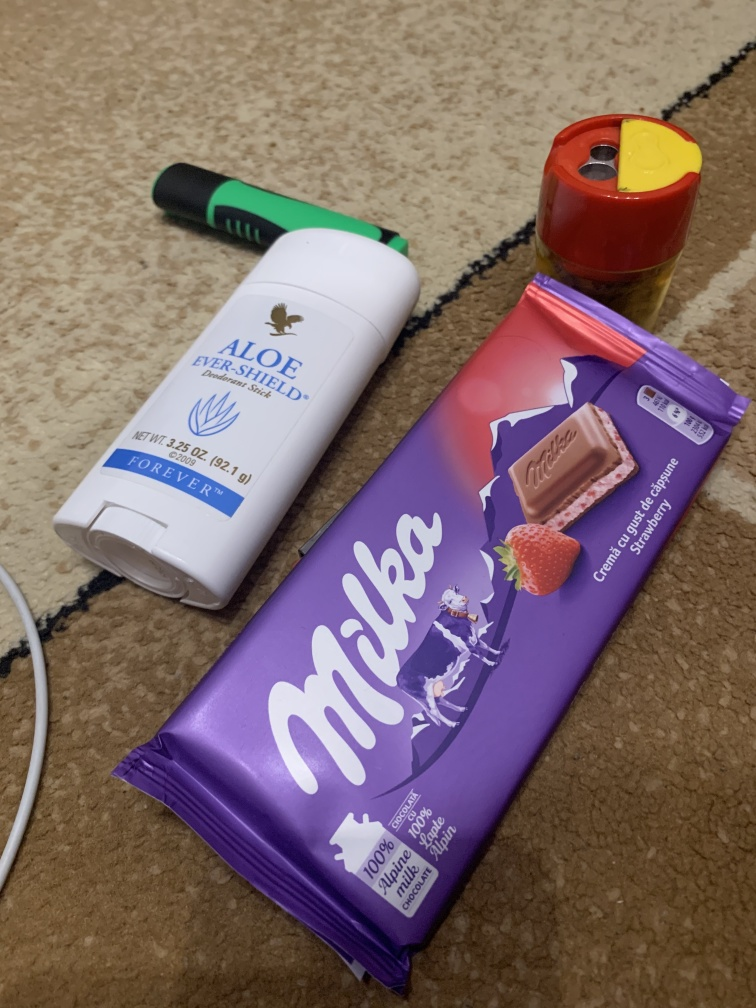milka: (188, 269, 755, 989)
